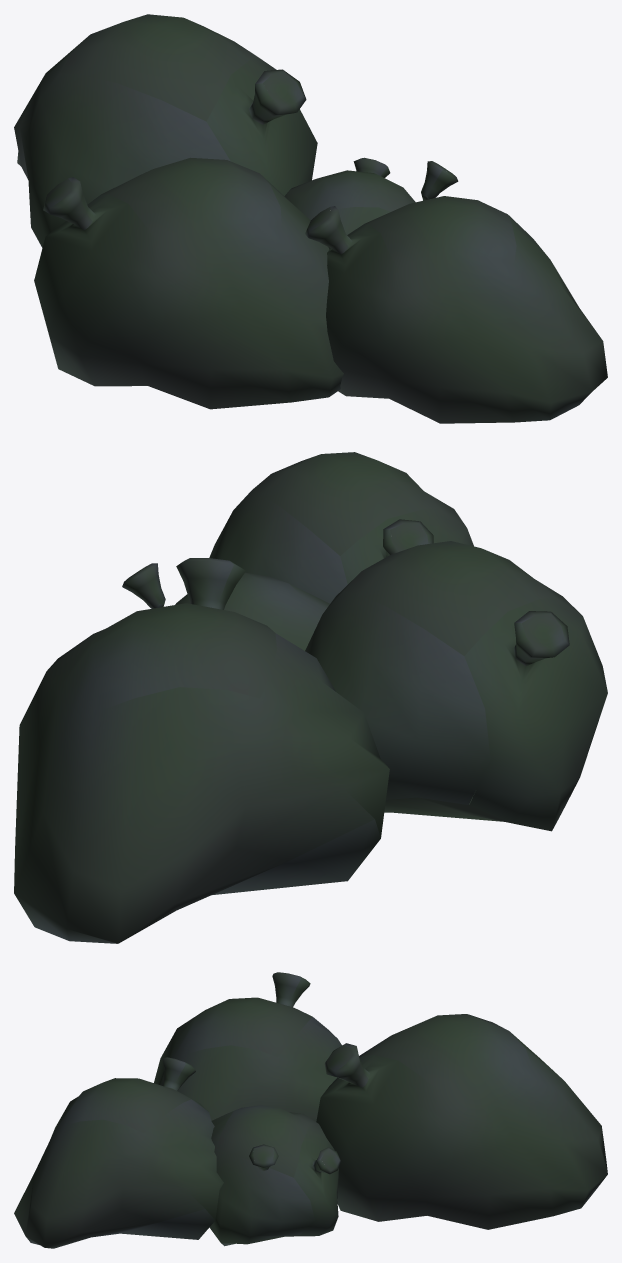
Rendered from pile-of-trash.fbx.
3 views of the same model, one above another, from view 1: azimuth 30°, elevation 25°; view 2: azimuth 150°, elevation 25°; view 3: azimuth 270°, elevation 25° (orthographic). The views are drawn at different scales.
Visible parts, largest first — view 1: Cube; view 2: Cube; view 3: Cube.
Part boxes in pixels (<box>): Cube: <box>14,14,607,423</box>; Cube: <box>14,452,607,943</box>; Cube: <box>14,972,607,1248</box>.
Size of the model in its own units: 567 by 317 by 935.
4 materials, 4 textured.
